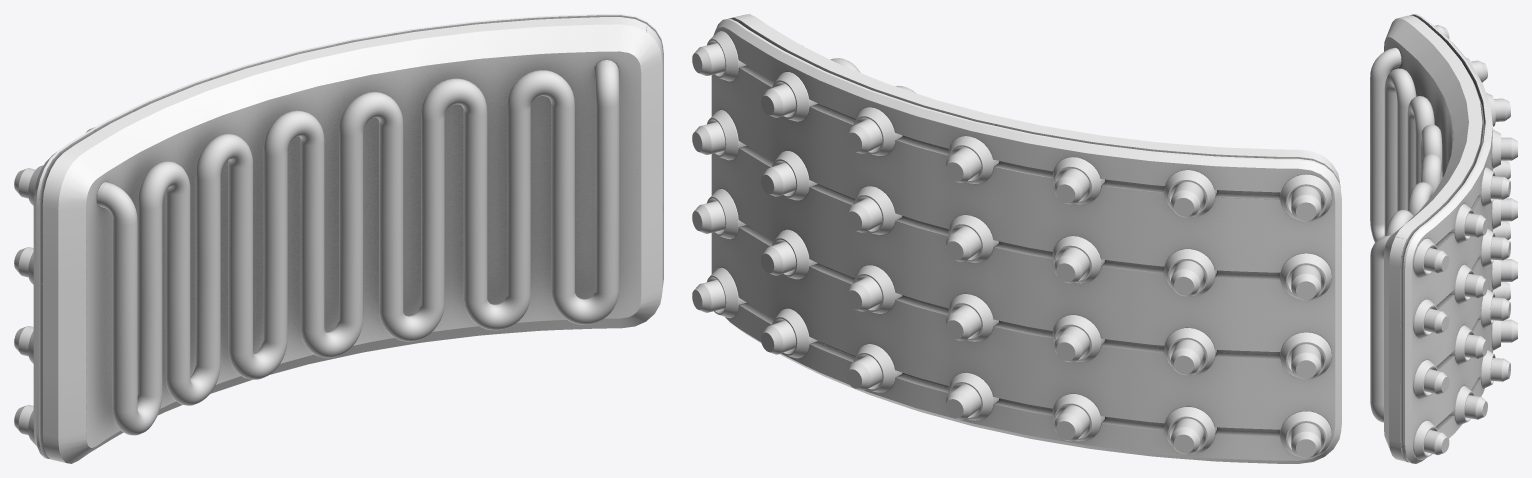
Rendered from pylonShield.fbx.
3 views of the same model, side by side, from view 1: azimuth 30°, elevation 25°; view 2: azimuth 150°, elevation 25°; view 3: azimuth 270°, elevation 25° (orthographic). The views are drawn at different scales.
Parts seen in each view (by area): view 1: Shield, Piping, Bolts; view 2: Shield, Bolts; view 3: Shield, Bolts, Piping.
Boxes of the visible parts, x1,y1,x2,y2 form: Shield: (33, 14, 663, 463); Piping: (97, 60, 619, 435); Bolts: (14, 127, 94, 445); Shield: (711, 14, 1341, 463); Bolts: (692, 31, 1331, 458); Shield: (1384, 14, 1492, 463); Bolts: (1413, 25, 1517, 459); Piping: (1370, 47, 1442, 422).
Size of the model in its own units: 5618 by 2600 by 1490.
